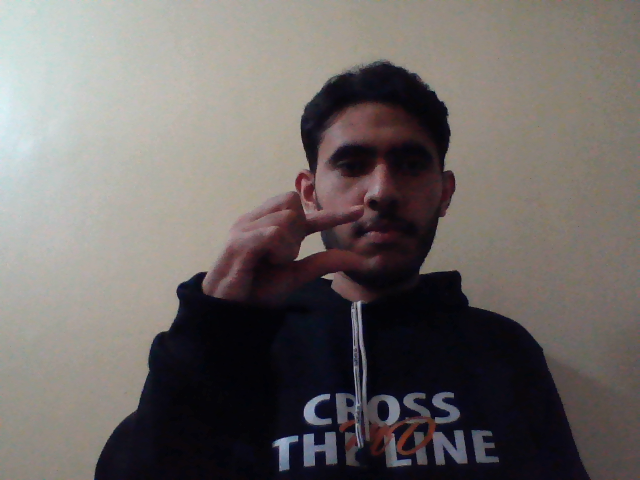G: (195, 187, 374, 321)
